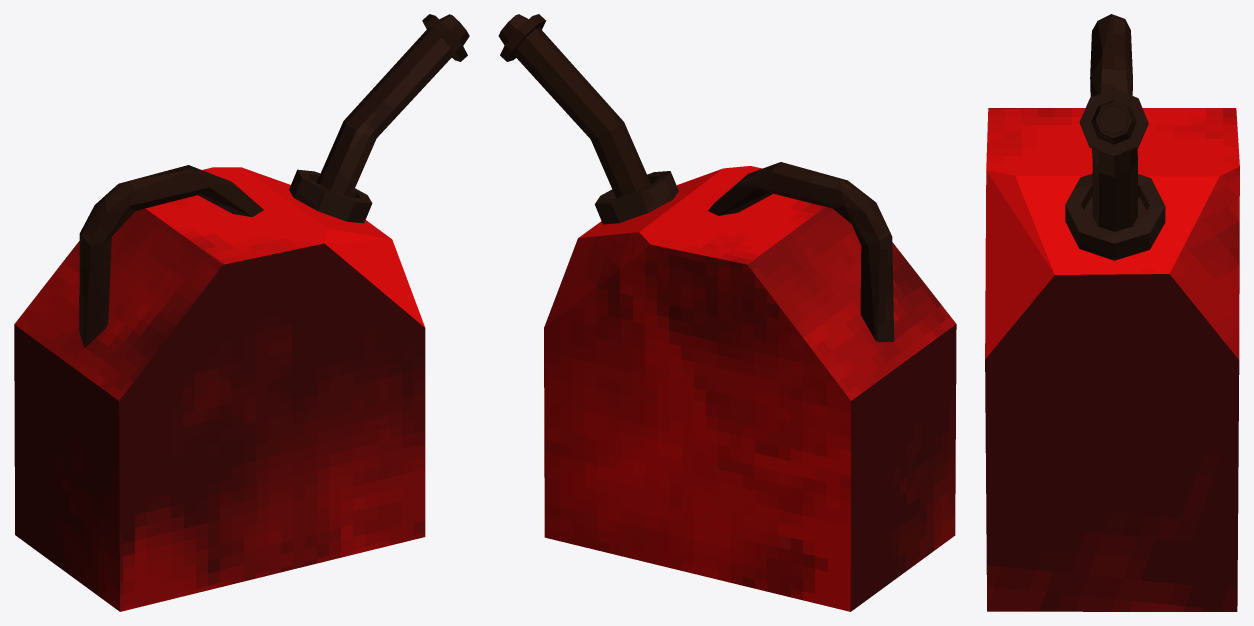
File: Gas.glb
The picture shows the model from 3 angles, left to right: view 1: azimuth 30°, elevation 25°; view 2: azimuth 150°, elevation 25°; view 3: azimuth 270°, elevation 25°; orthographic projection. The views are drawn at different scales.
Parts seen in each view (by area): view 1: Gas Can; view 2: Gas Can; view 3: Gas Can.
Boxes of the visible parts, bbox=[...] form: Gas Can: bbox=[14, 14, 469, 611]; Gas Can: bbox=[498, 14, 956, 611]; Gas Can: bbox=[985, 14, 1239, 611].
Bounding box in the file's own units: 1.31 × 1.46 × 0.603.
2 materials, 2 textured.
